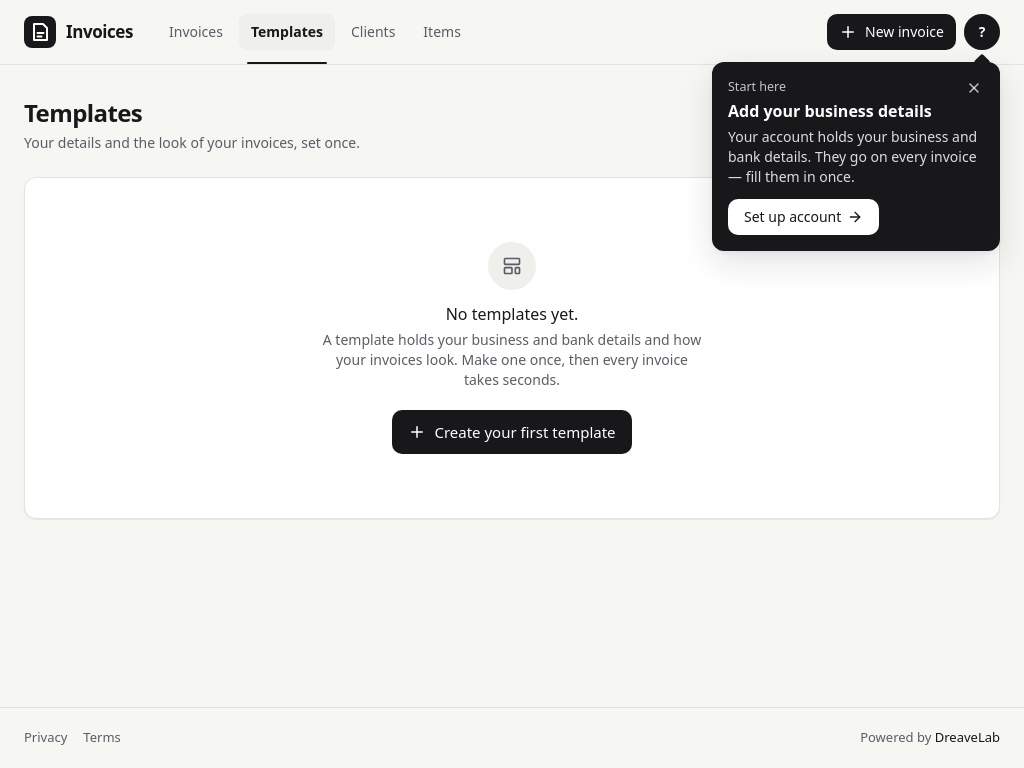
Scenario: business details tip › can be hidden
The image size is (1024, 768).
Click the button named "Hide tip": (974, 88) [956,70,992,106]
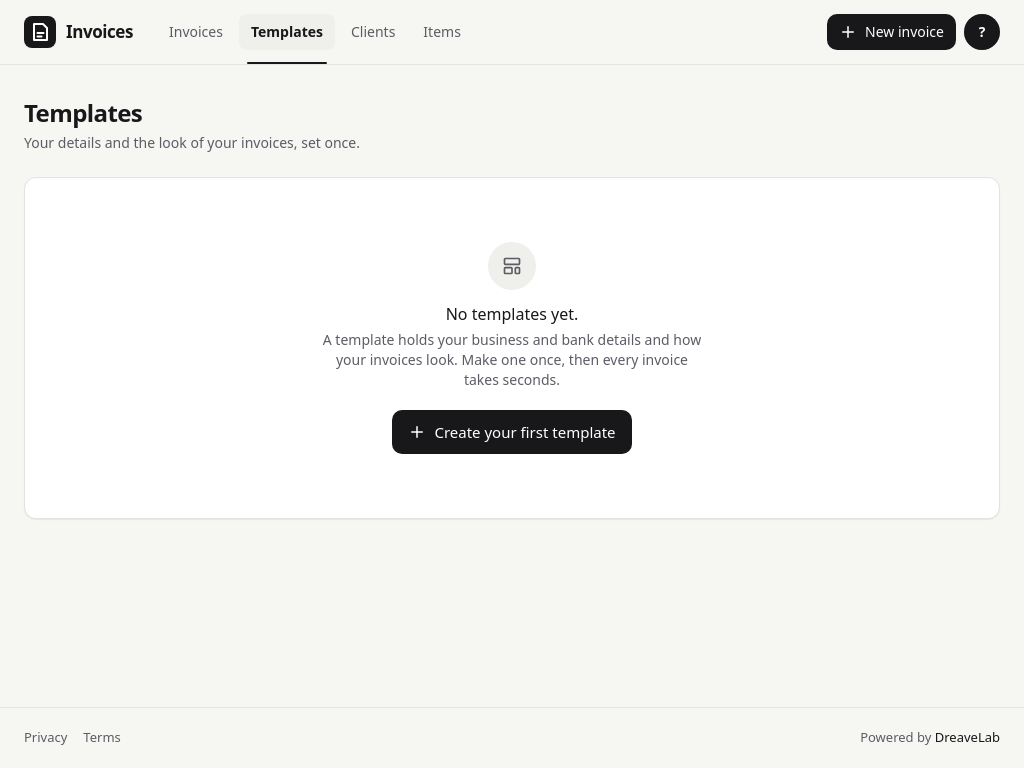
Expected: the text "Add your business details" is gone
